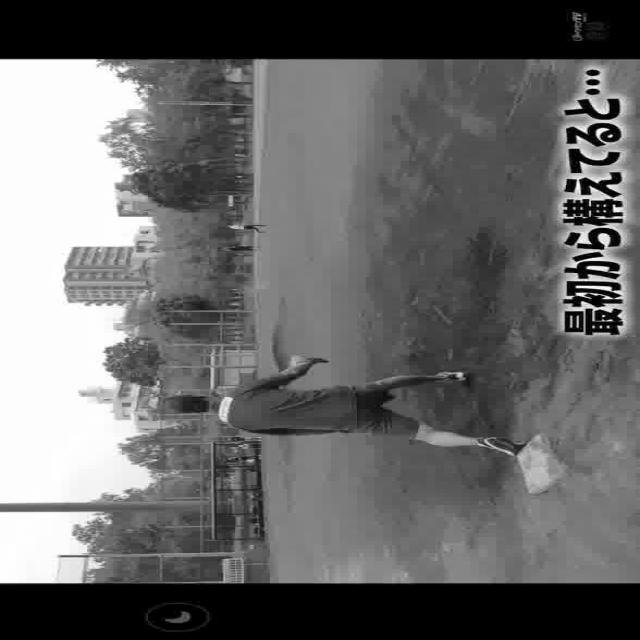base: (510, 436, 568, 492)
baseball_glove: (286, 352, 324, 370)
shoe: (473, 434, 535, 452), (437, 370, 472, 386)
